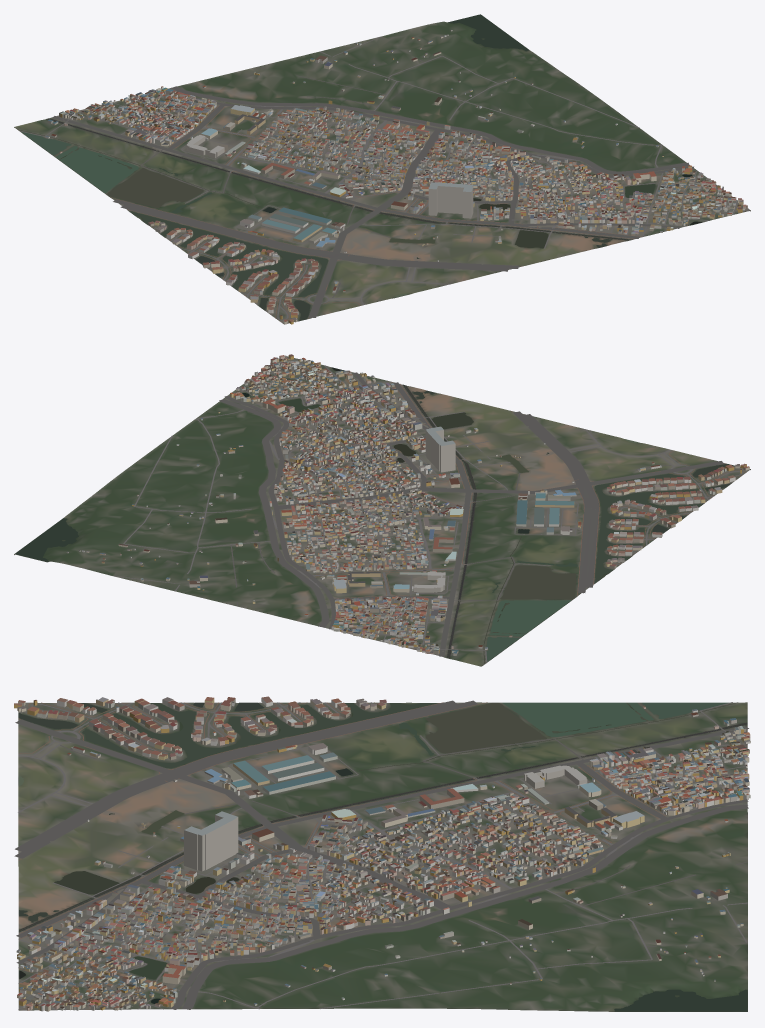
The picture shows the model from 3 angles, top to bottom: view 1: azimuth 30°, elevation 25°; view 2: azimuth 150°, elevation 25°; view 3: azimuth 270°, elevation 25°; orthographic projection. The views are drawn at different scales.
Parts seen in each view (by area): view 1: ground, buildings, roads, water; view 2: ground, buildings, roads, water; view 3: ground, buildings, roads, water.
Part boxes in pixels (x1,y1,x2,y2): ground: (14,20,750,324); buildings: (45,29,747,324); roads: (19,36,748,321); water: (18,14,702,320); ground: (14,356,750,666); buildings: (66,354,749,655); roads: (114,355,745,662); water: (15,367,734,664); ground: (18,702,747,1011); buildings: (14,696,750,1011); roads: (14,700,748,1010); water: (18,702,747,1011).
Size of the model in its own units: 1416 by 83.69 by 1416.
